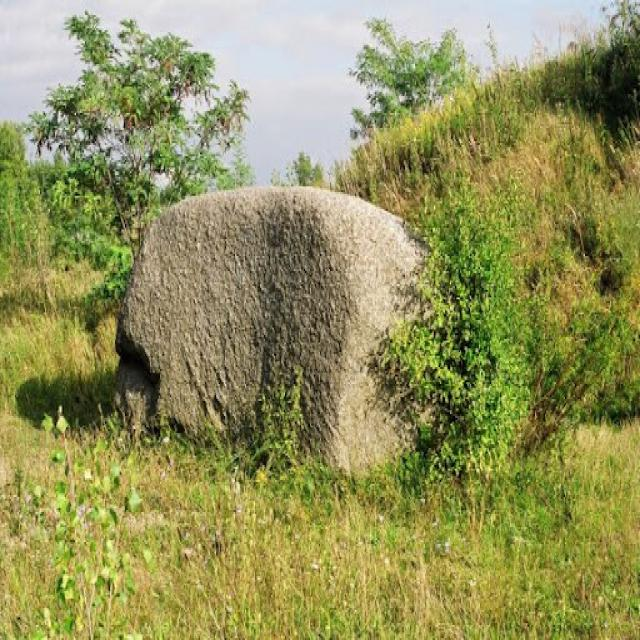grass: (0, 265, 639, 638)
stone: (116, 186, 419, 467)
